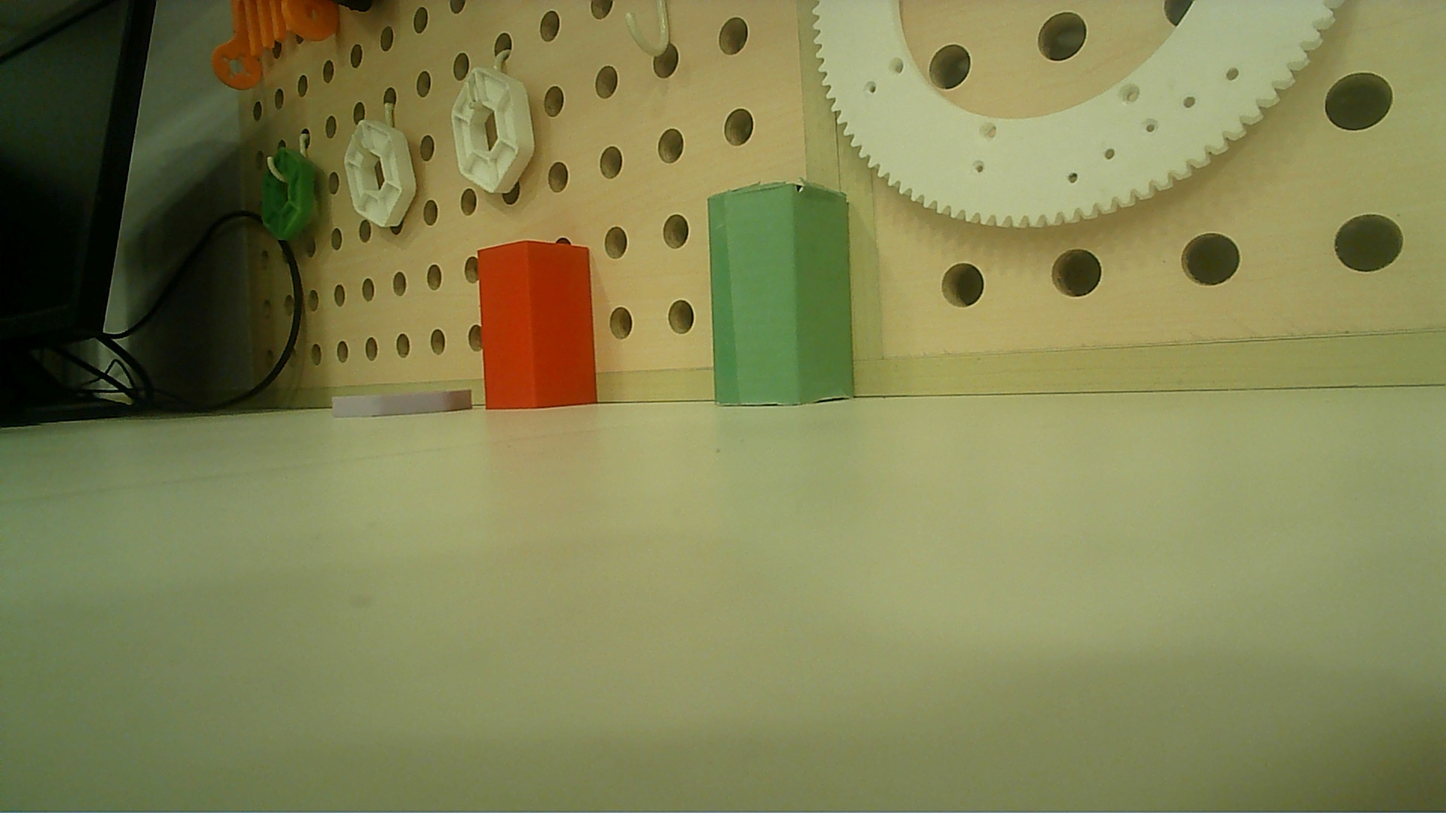green: (706, 179, 852, 408)
